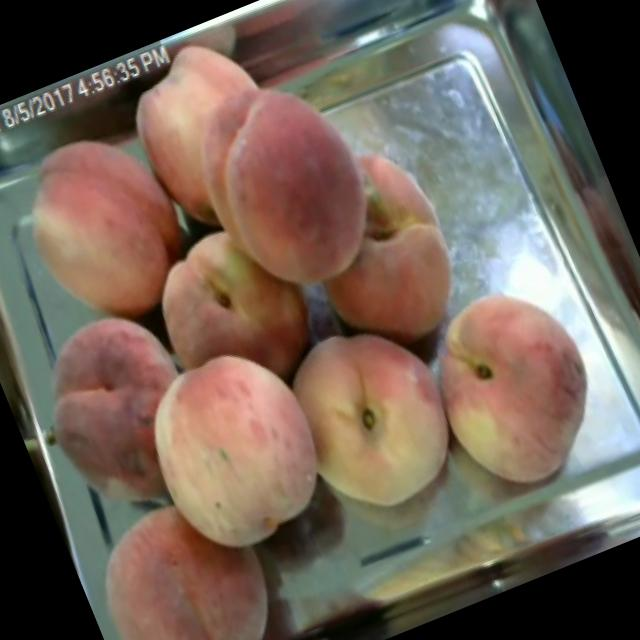Fruit: (104, 314, 364, 588), (0, 274, 244, 556), (168, 51, 412, 324), (400, 259, 634, 517), (260, 290, 488, 541), (272, 120, 488, 375), (0, 105, 212, 353), (124, 193, 344, 425), (105, 15, 312, 244), (60, 461, 318, 640)
